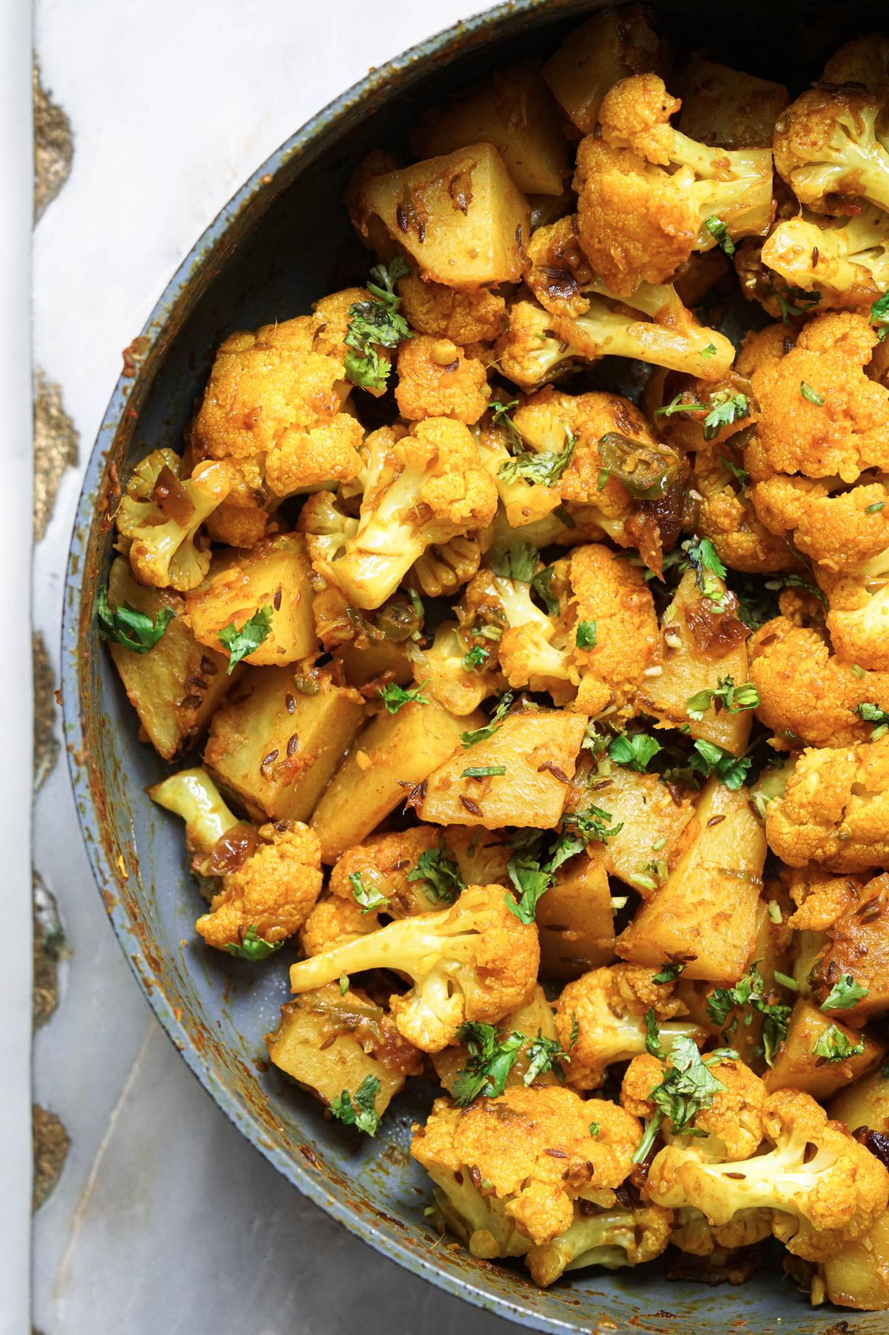aloo gobhi: (123, 34, 889, 1331)
